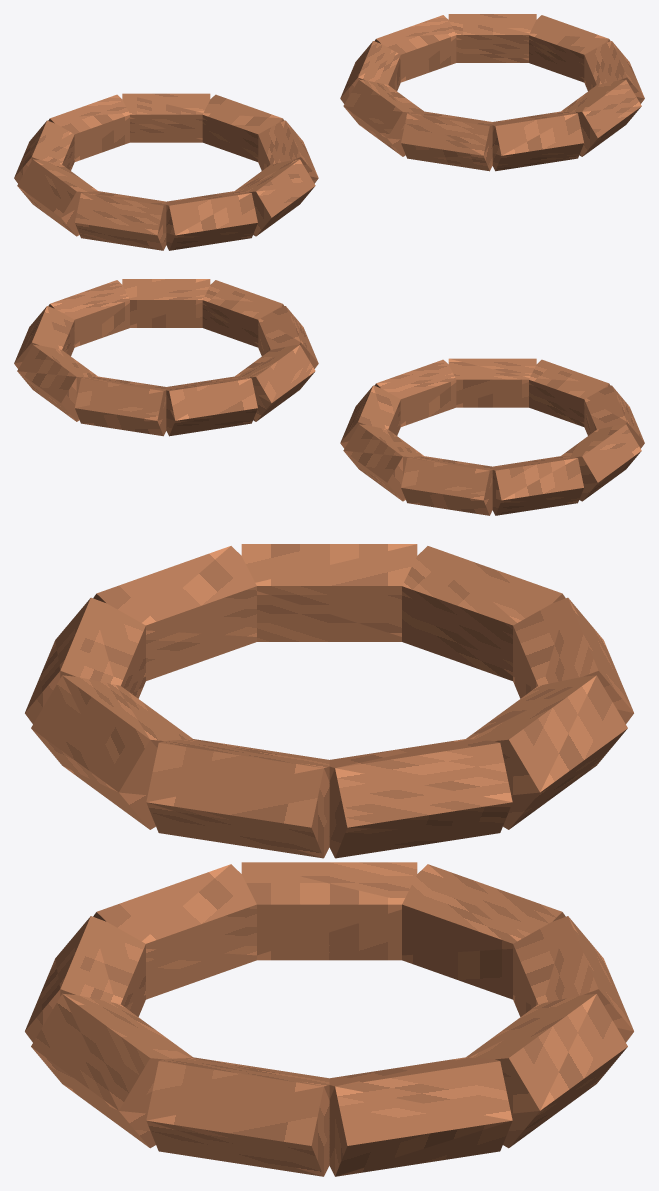
Rendered from copper_ear.glb.
3 views of the same model, one above another, from view 1: azimuth 30°, elevation 25°; view 2: azimuth 150°, elevation 25°; view 3: azimuth 270°, elevation 25° (orthographic). The views are drawn at different scales.
Parts seen in each view (by area): view 1: block_earring loop3 (×2), block_earring loop2 (×2), block_earring loop7 (×2), block_earring loop8 (×2), block_earring loop6 (×2), block_earring loop1 (×2), block_earring loop4 (×2), block_earring loop0 (×2), block_earring loop5 (×2); view 2: block_earring loop5 (×2), block_earring loop6 (×2), block_earring loop1 (×2), block_earring loop0 (×2), block_earring loop2 (×2), block_earring loop7 (×2), block_earring loop4 (×2), block_earring loop8 (×2), block_earring loop3 (×2); view 3: block_earring loop0 (×2), block_earring loop8 (×2), block_earring loop4 (×2), block_earring loop3 (×2), block_earring loop5 (×2), block_earring loop1 (×2), block_earring loop7 (×2), block_earring loop2 (×2), block_earring loop6 (×2).
Boxes of the visible parts, left/top/right/bottom form: block_earring loop3 (×2): left=75, top=111, right=492, bottom=250; block_earring loop2 (×2): left=166, top=111, right=583, bottom=250; block_earring loop7 (×2): left=122, top=14, right=536, bottom=142; block_earring loop8 (×2): left=202, top=15, right=610, bottom=161; block_earring loop6 (×2): left=48, top=15, right=456, bottom=161; block_earring loop1 (×2): left=235, top=79, right=641, bottom=236; block_earring loop4 (×2): left=17, top=79, right=423, bottom=236; block_earring loop0 (×2): left=258, top=41, right=644, bottom=183; block_earring loop5 (×2): left=14, top=41, right=400, bottom=183; block_earring loop5 (×2): left=166, top=376, right=583, bottom=515; block_earring loop6 (×2): left=75, top=376, right=492, bottom=515; block_earring loop1 (×2): left=122, top=279, right=536, bottom=407; block_earring loop0 (×2): left=48, top=280, right=456, bottom=426; block_earring loop2 (×2): left=202, top=280, right=610, bottom=426; block_earring loop7 (×2): left=17, top=344, right=423, bottom=501; block_earring loop4 (×2): left=235, top=344, right=641, bottom=501; block_earring loop8 (×2): left=14, top=306, right=400, bottom=448; block_earring loop3 (×2): left=258, top=306, right=644, bottom=448; block_earring loop0 (×2): left=146, top=739, right=329, bottom=1176; block_earring loop8 (×2): left=329, top=739, right=512, bottom=1176; block_earring loop4 (×2): left=241, top=544, right=417, bottom=960; block_earring loop3 (×2): left=93, top=546, right=256, bottom=999; block_earring loop5 (×2): left=402, top=546, right=565, bottom=999; block_earring loop1 (×2): left=31, top=675, right=192, bottom=1148; block_earring loop7 (×2): left=466, top=675, right=627, bottom=1148; block_earring loop2 (×2): left=25, top=597, right=145, bottom=1042; block_earring loop6 (×2): left=513, top=597, right=633, bottom=1042.
Size of the model in its own units: 0.0187 by 0.00138 by 0.00842.
1 material, 1 textured.
